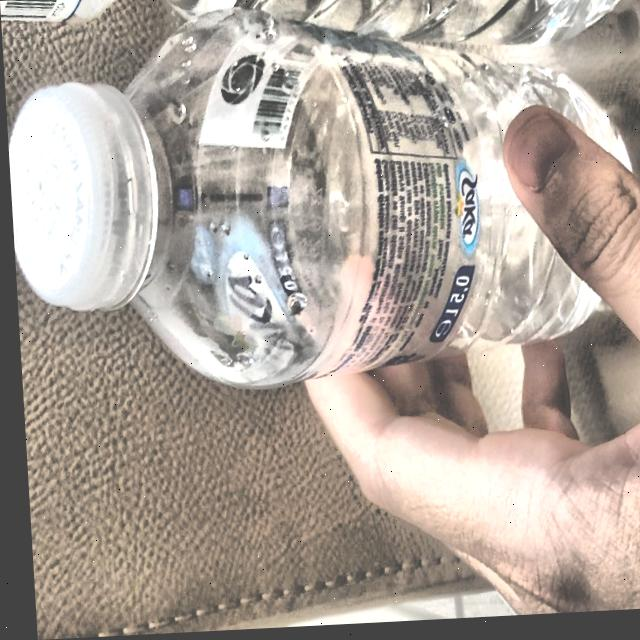plastic: (6, 19, 630, 394)
